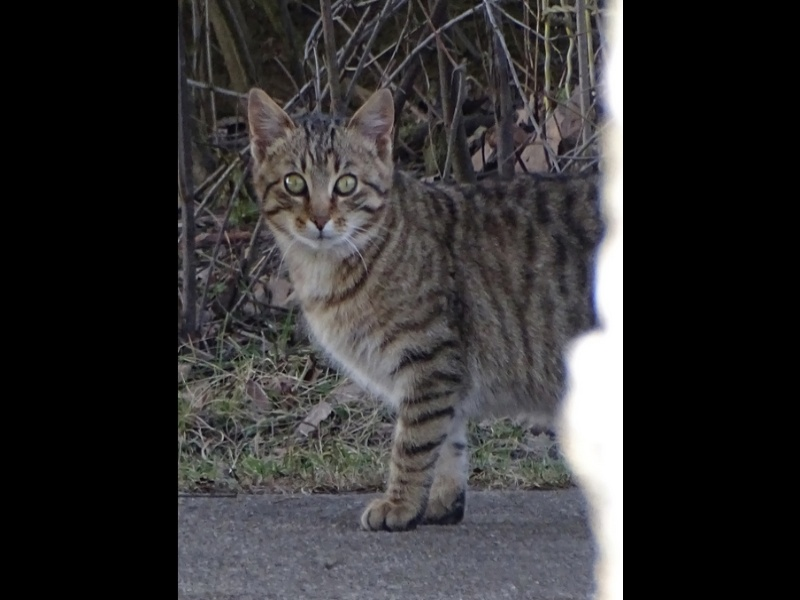cat: (241, 84, 603, 526)
